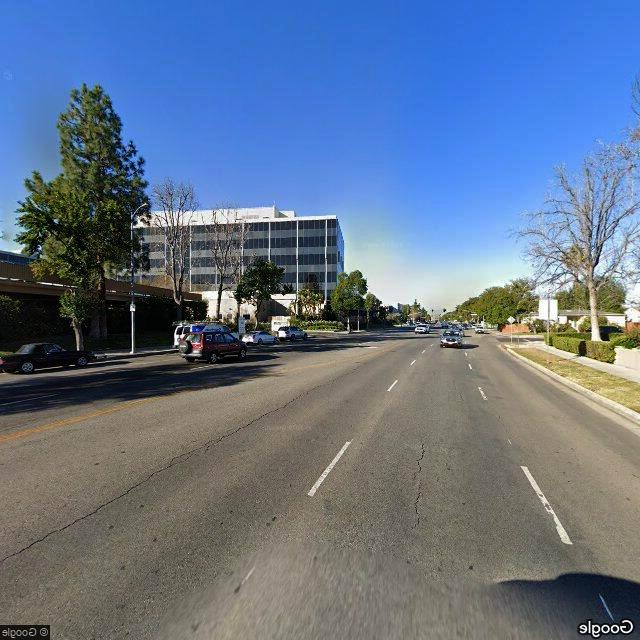pothole: (1, 378, 324, 563), (407, 435, 433, 531)
